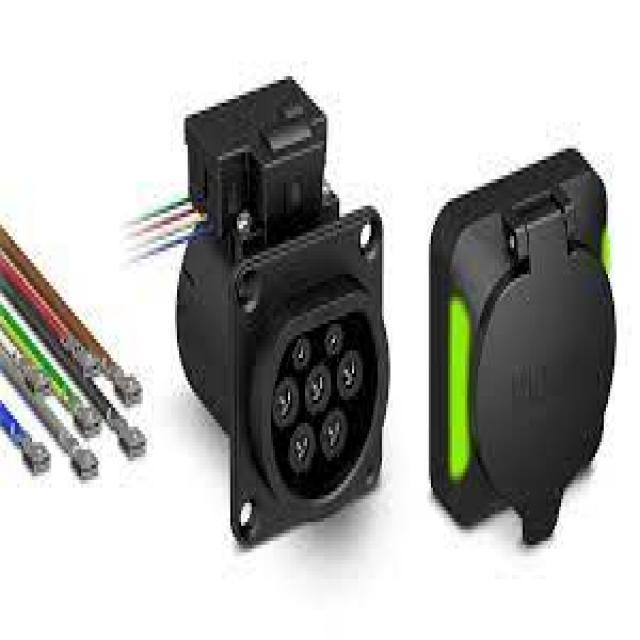Type 2: (215, 279, 416, 526)
